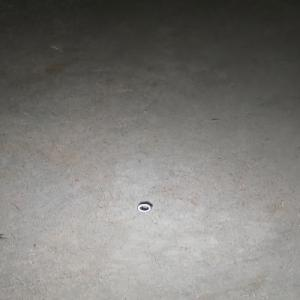Nut: (136, 201, 153, 212)
